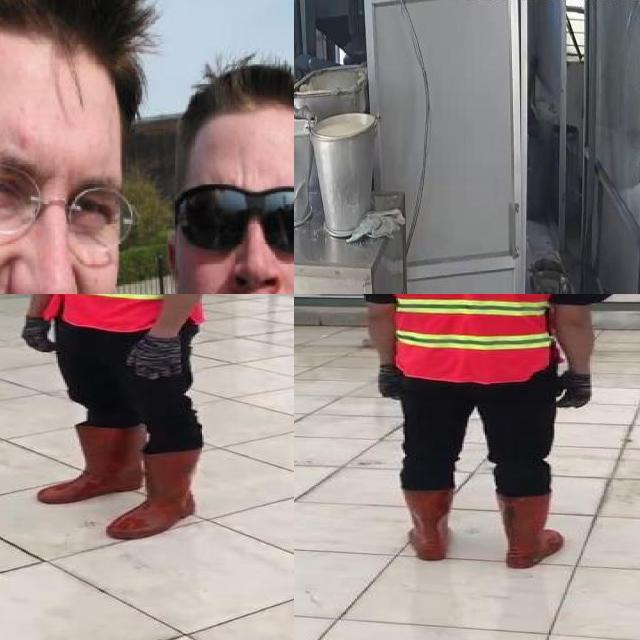boots: (37, 423, 145, 507), (108, 448, 202, 540), (492, 492, 570, 572), (400, 489, 454, 562)
face_nomask: (0, 165, 127, 294), (179, 180, 294, 294)
glasses: (0, 157, 139, 262), (168, 179, 294, 273)
hand_glove: (126, 338, 188, 377), (19, 315, 60, 356), (551, 371, 595, 408), (375, 363, 405, 408)
head_nohelmet: (0, 0, 140, 134), (160, 71, 294, 174)
person: (341, 294, 603, 571), (6, 294, 235, 533), (0, 0, 160, 294), (145, 56, 294, 294)
vest: (378, 294, 556, 383), (40, 294, 210, 333)
